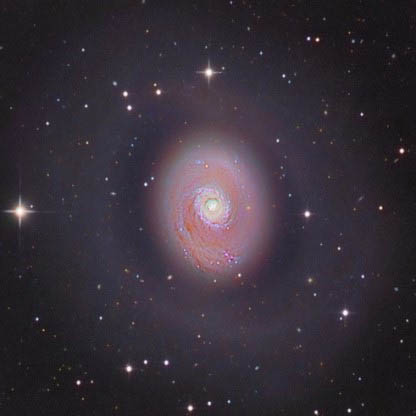Messier 94: (76, 56, 356, 365)
